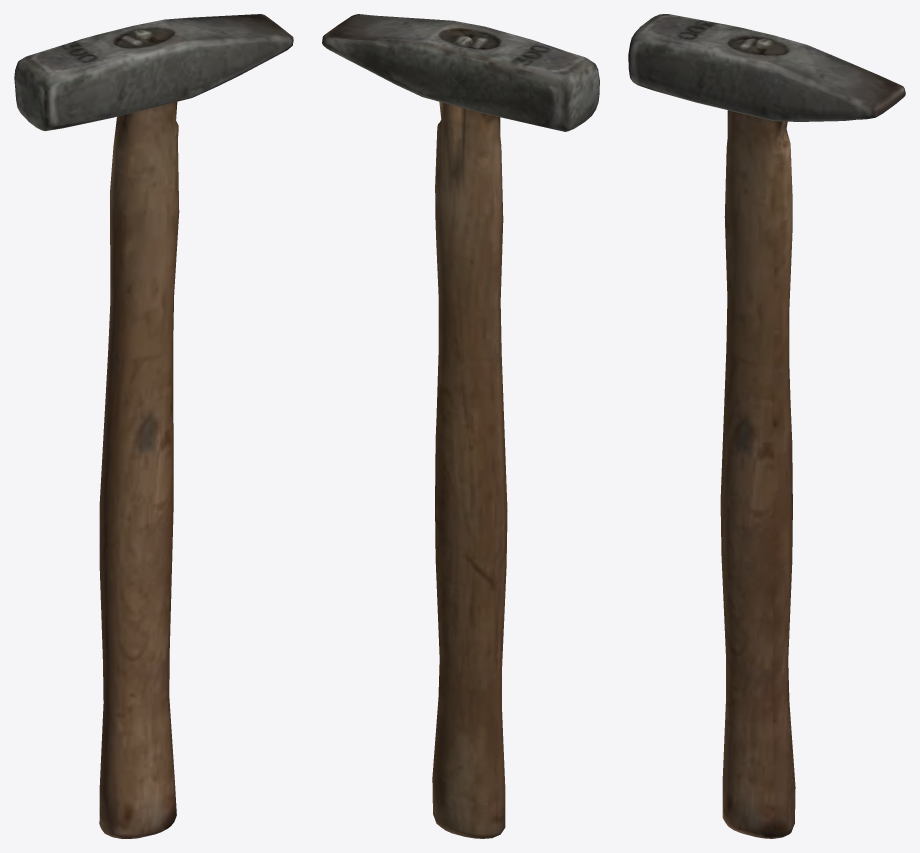
The model's file is cross_pein_hammer.glb.
3 renders of one model, left to right at view 1: azimuth 30°, elevation 25°; view 2: azimuth 150°, elevation 25°; view 3: azimuth 330°, elevation 25°, orthographic.
Visible parts, largest first — view 1: cross_pein_hammer; view 2: cross_pein_hammer; view 3: cross_pein_hammer.
Part boxes in pixels (bbox=[...]): cross_pein_hammer: bbox=[14, 14, 293, 838]; cross_pein_hammer: bbox=[322, 14, 599, 838]; cross_pein_hammer: bbox=[628, 14, 905, 838].
Bounding box in the file's own units: 0.099 × 0.3001 × 0.0243.
Materials: 1 (1 with a texture image).
